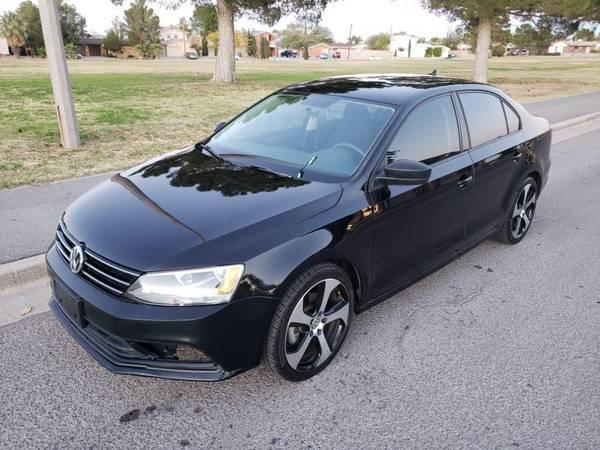Front_Bumper: (45, 236, 275, 381)
Front_Fender: (240, 175, 381, 306)
Front_Left_Door: (375, 149, 474, 299)
Front_Left_Window: (370, 92, 468, 185)
Front_Windshield: (203, 94, 397, 182)
Grille: (57, 211, 147, 292)
Hood: (68, 148, 353, 272)
Left_Headlight: (124, 265, 245, 308)
Rear_Fender: (521, 117, 552, 185)
Rear_Left_Door: (465, 127, 529, 247)
Rear_Left_Window: (455, 88, 522, 148)
Roof: (281, 71, 551, 182)
Wheel: (269, 263, 361, 379), (507, 180, 543, 241)
